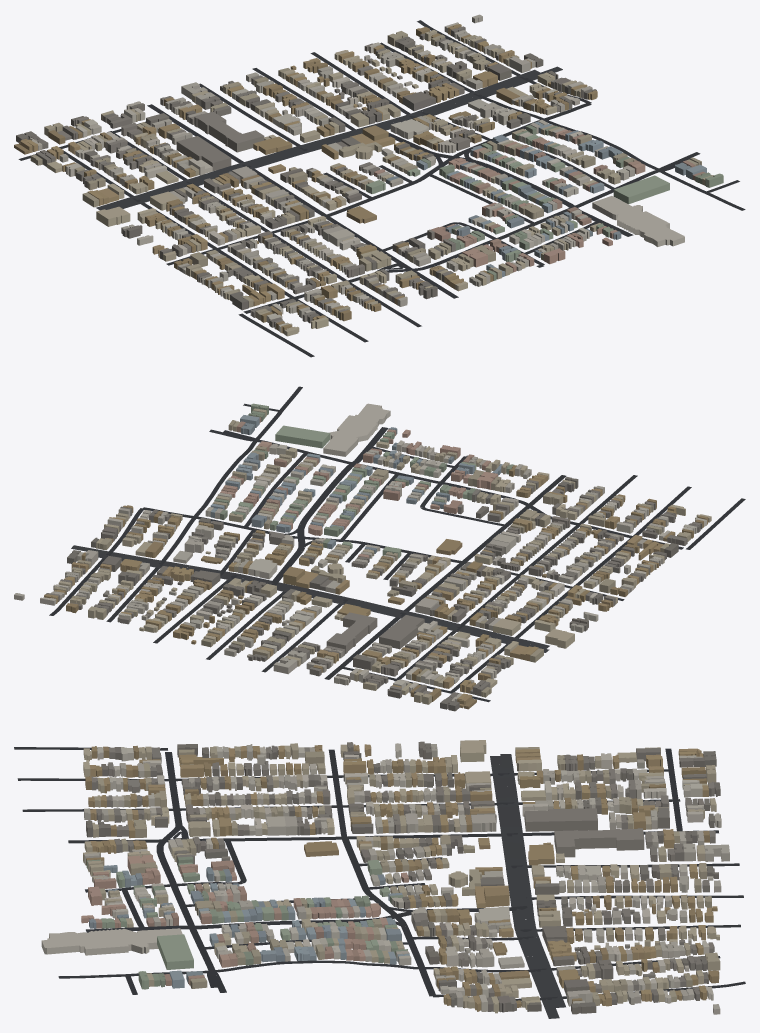
Rendered from tile_7_12.glb.
3 views of the same model, one above another, from view 1: azimuth 30°, elevation 25°; view 2: azimuth 150°, elevation 25°; view 3: azimuth 270°, elevation 25° (orthographic). The views are drawn at different scales.
Parts seen in each view (by area): view 1: bld_7_12, road_7_12; view 2: bld_7_12, road_7_12; view 3: bld_7_12, road_7_12.
Boxes of the visible parts, box(x1,y1,x2,y2) form: bld_7_12: box(14, 14, 723, 336); road_7_12: box(18, 20, 745, 357); bld_7_12: box(14, 403, 711, 711); road_7_12: box(49, 386, 745, 702); bld_7_12: box(41, 740, 729, 1014); road_7_12: box(14, 747, 745, 1018).
Bounding box in the file's own units: 841 × 56.89 × 927.
